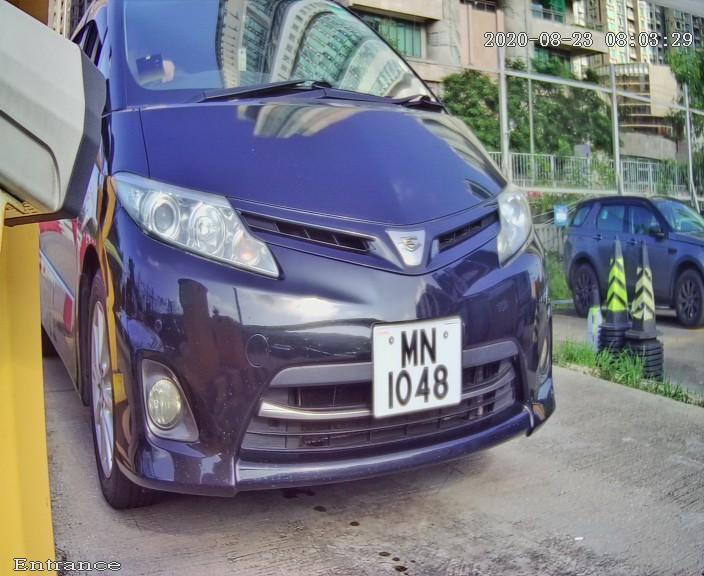Car: (35, 1, 591, 541)
License Plate: (362, 309, 475, 433)
